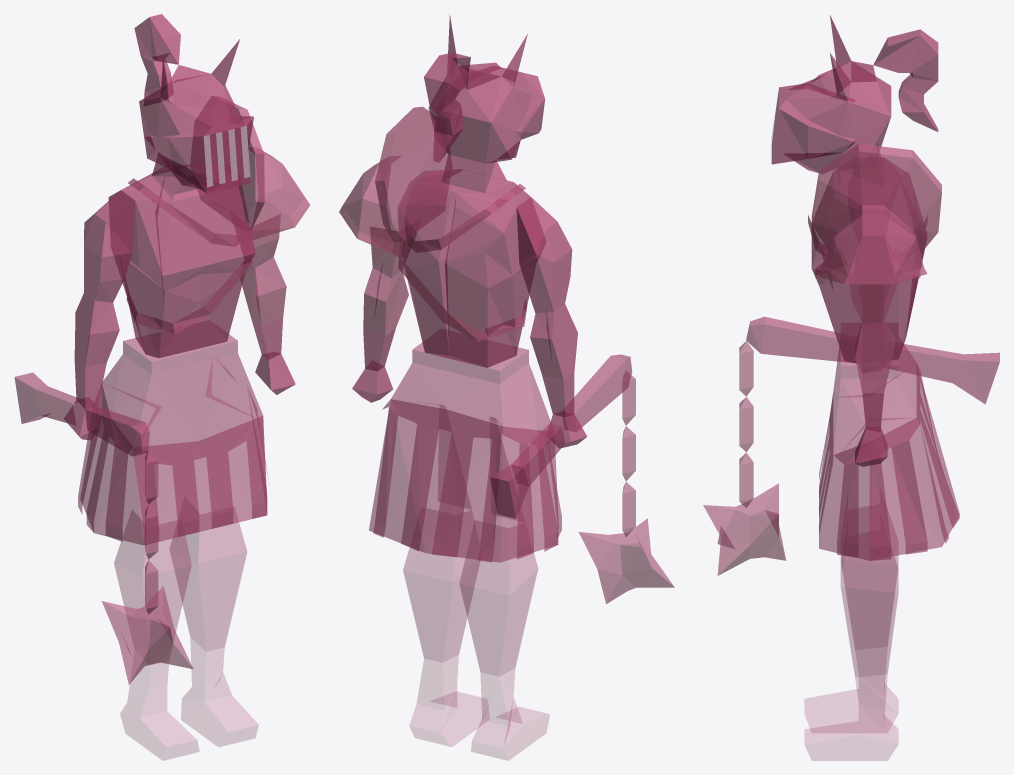
The model's file is verac.gltf.
3 renders of one model, left to right at view 1: azimuth 30°, elevation 25°; view 2: azimuth 150°, elevation 25°; view 3: azimuth 270°, elevation 25°, orthographic.
Size of the model in its own units: 79 by 215 by 82.
1 material, 1 textured.
